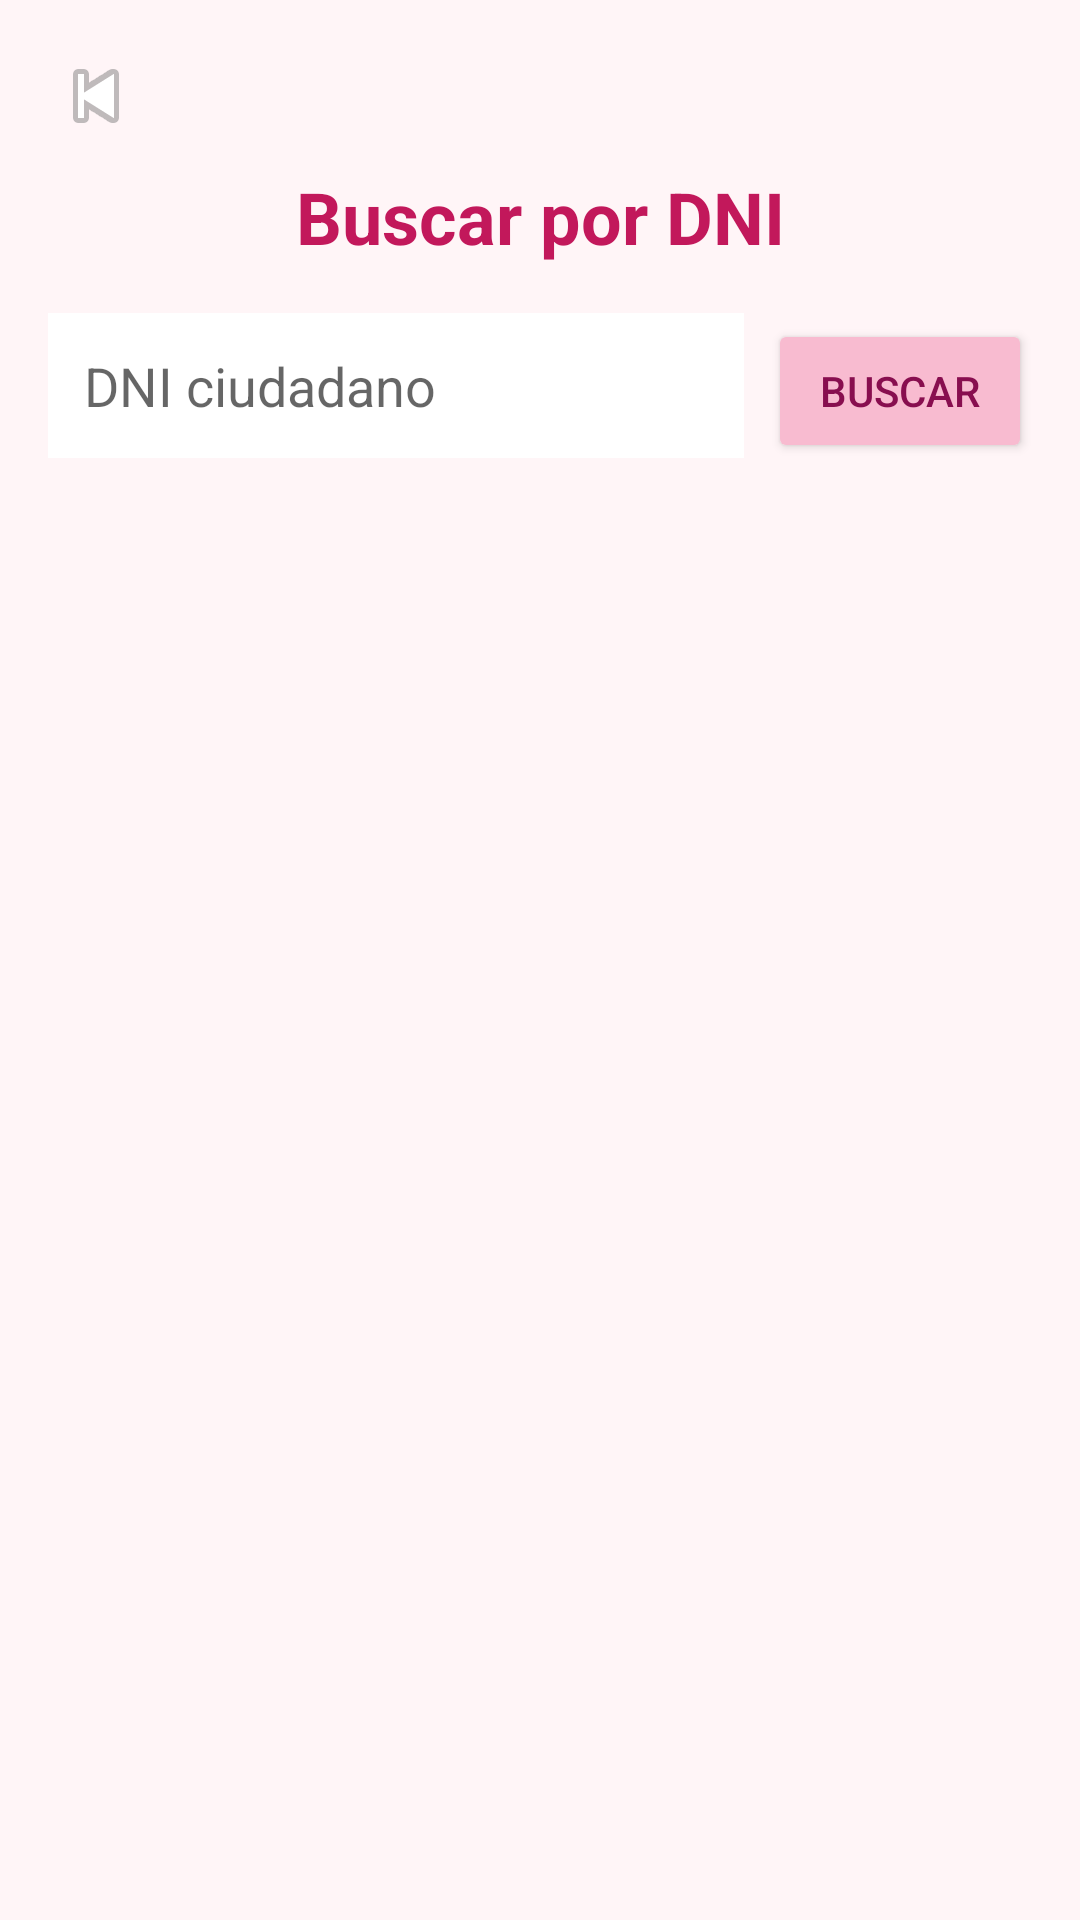

Named icons in this screenshot (1080×1920) and their centers, [x,y]:
Volver: [96,96]
